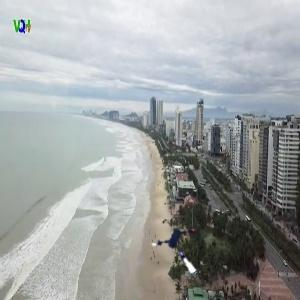drone: (153, 213, 216, 276)
